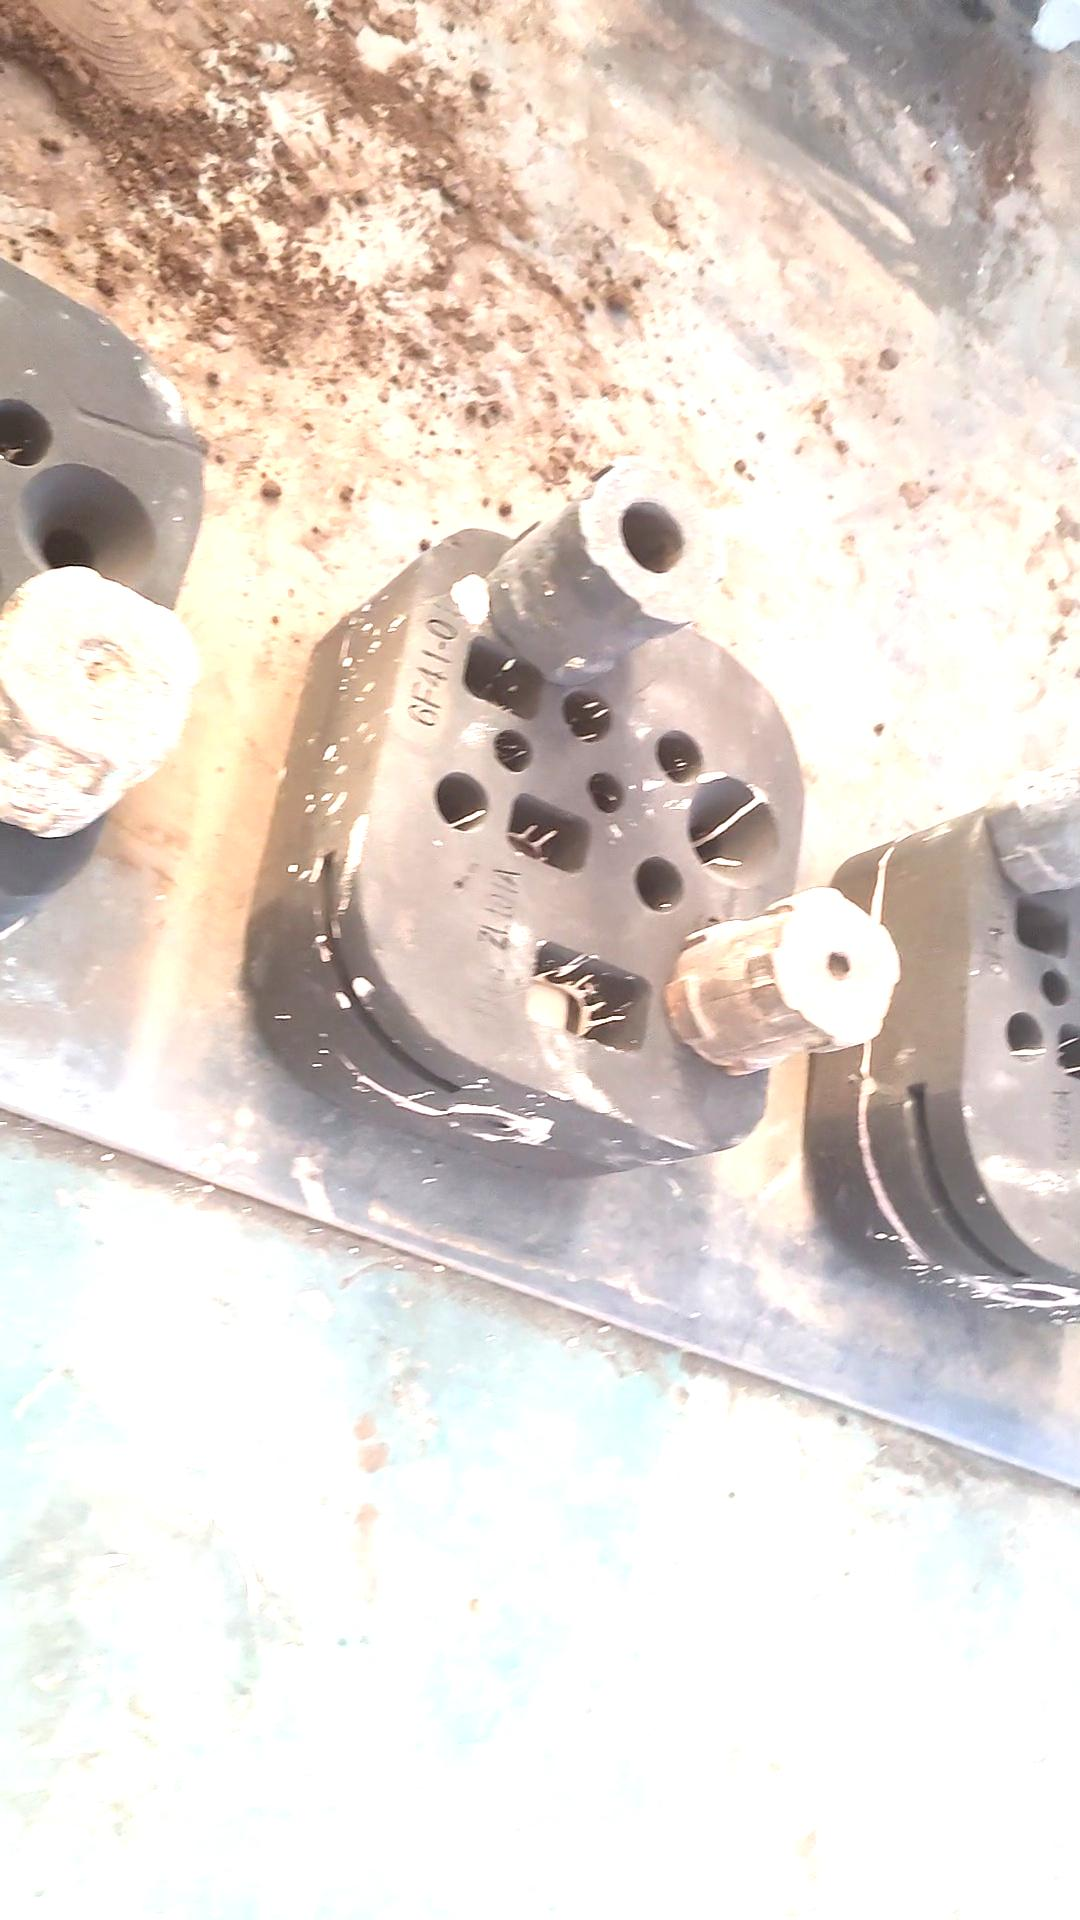pouring hole: (15, 462, 154, 585), (684, 777, 779, 887)
